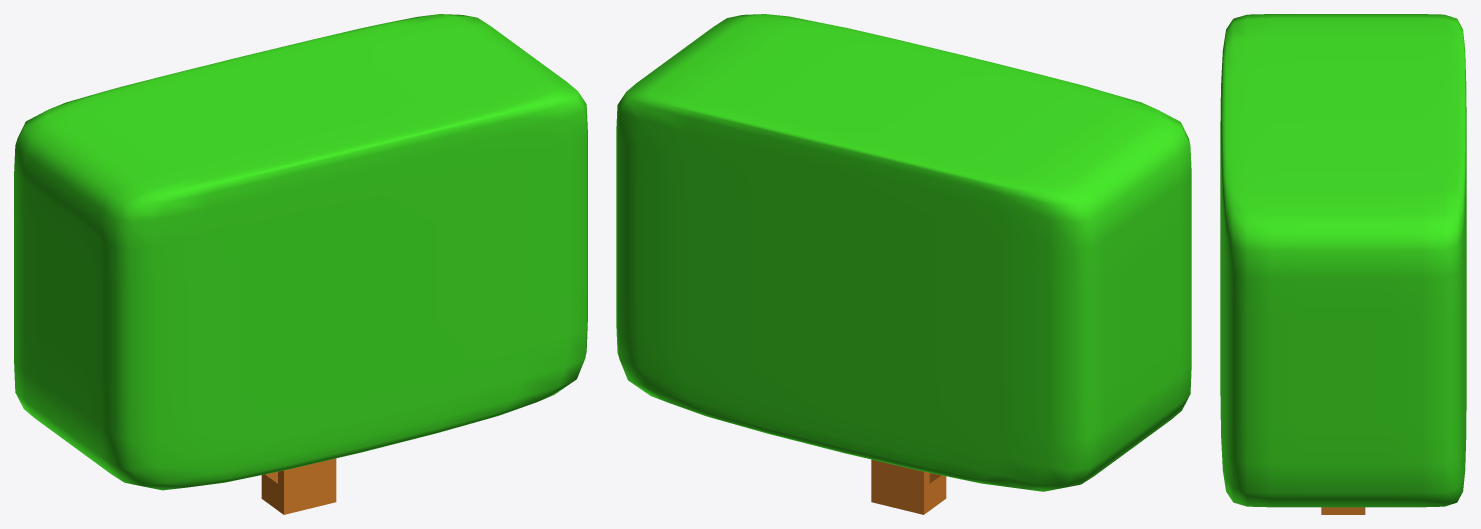
File: Cali.fbx
3 views of the same model, side by side, from view 1: azimuth 30°, elevation 25°; view 2: azimuth 150°, elevation 25°; view 3: azimuth 270°, elevation 25° (orthographic). The views are drawn at different scales.
Parts seen in each view (by area): view 1: Cube; view 2: Cube; view 3: Cube.
Part boxes in pixels (x1,y1,x2,y2): Cube: (14,14,587,514); Cube: (616,14,1191,514); Cube: (1220,14,1466,514).
Size of the model in its own units: 162 by 129 by 74.06.
